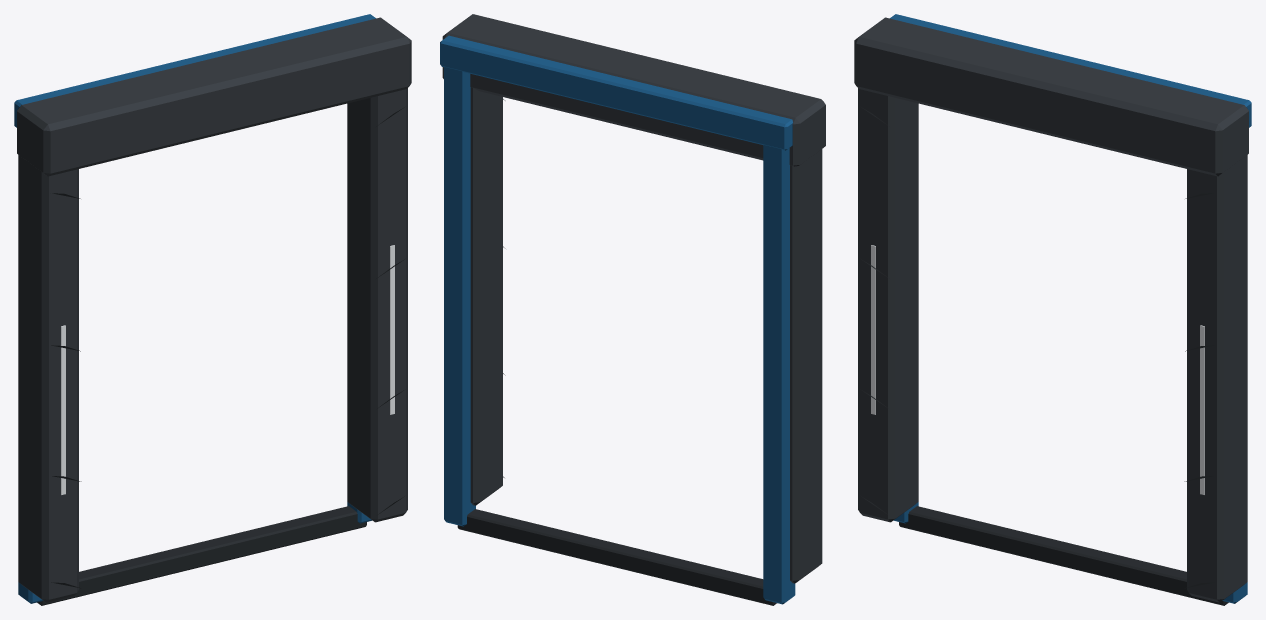
Rendered from SM_MPR3_DockShelter.fbx.
3 views of the same model, side by side, from view 1: azimuth 30°, elevation 25°; view 2: azimuth 150°, elevation 25°; view 3: azimuth 330°, elevation 25° (orthographic). The views are drawn at different scales.
Visible parts, largest first — view 1: SM_MPR3_DockShelter; view 2: SM_MPR3_DockShelter; view 3: SM_MPR3_DockShelter.
Part boxes in pixels (box(x1,y1,x2,y2)): SM_MPR3_DockShelter: box(14, 14, 411, 605); SM_MPR3_DockShelter: box(440, 14, 825, 605); SM_MPR3_DockShelter: box(854, 14, 1251, 605).
Size of the model in its own units: 355 by 63.5 by 463.
